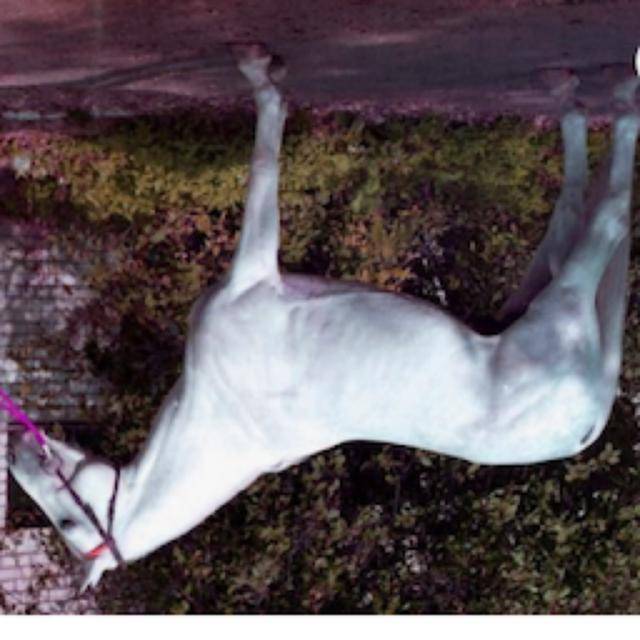Horse: (2, 35, 638, 600)
